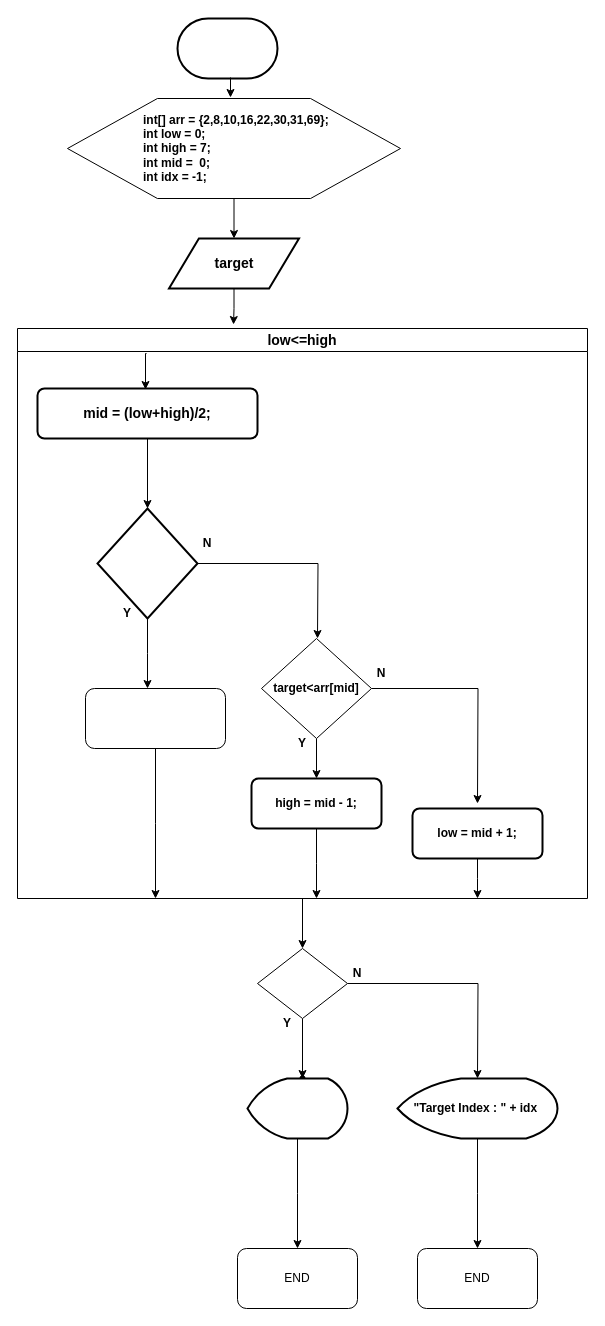
Some shapes in this 605 by 1326 pixel diagram are drawn without their labels. The box of each missing label's shape, as (x1, y1, x2, y2) in pixels:
"Not Found": (246, 1077, 348, 1139)
arr[mid]==target: (96, 507, 198, 619)
idx = mid; low = high +1;: (84, 688, 226, 748)
idx==-1;: (256, 948, 348, 1018)
START: (176, 17, 278, 79)
